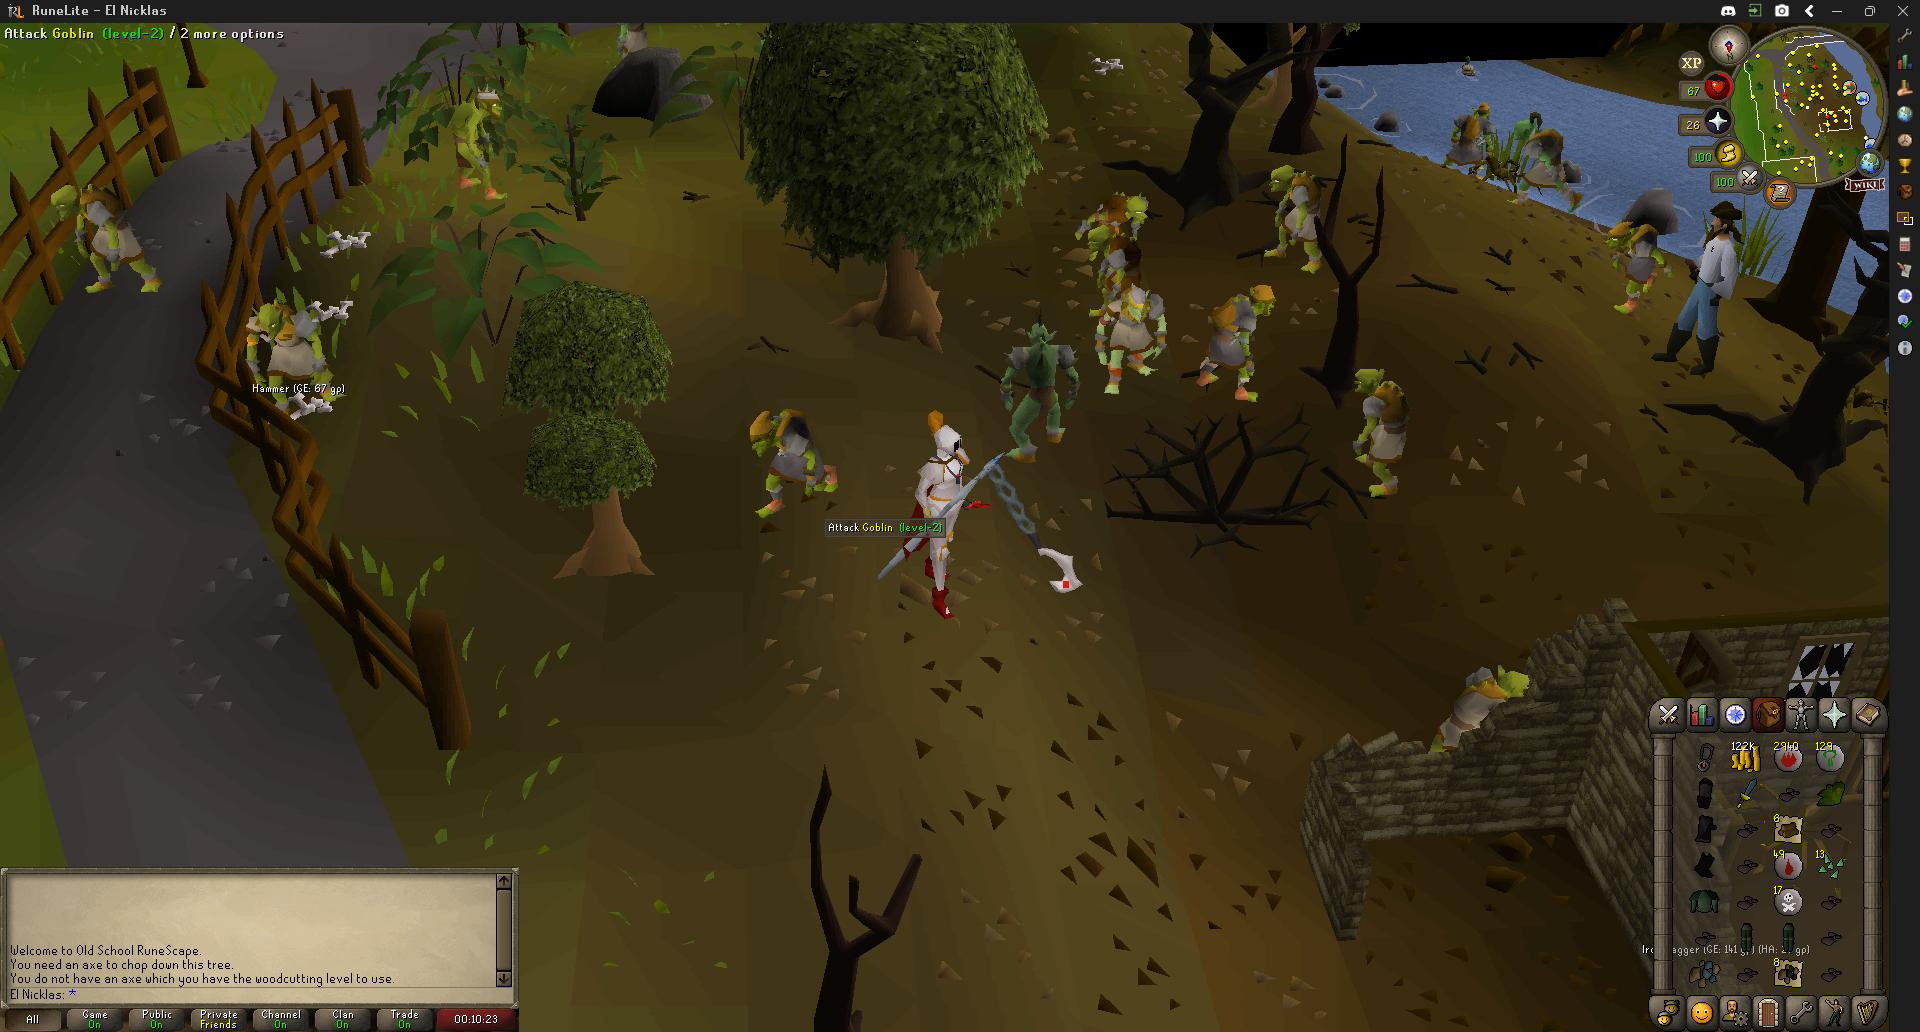Player: (895, 413, 984, 624)
goblin: (1652, 198, 1740, 376), (247, 293, 344, 418), (64, 182, 161, 295), (1193, 284, 1278, 401), (753, 406, 838, 520), (1000, 321, 1072, 451), (1093, 269, 1166, 393), (1437, 666, 1531, 755), (1357, 370, 1413, 498), (1076, 186, 1142, 291), (451, 84, 507, 203), (1265, 164, 1327, 270), (1599, 214, 1663, 314), (1518, 121, 1584, 213), (1444, 101, 1494, 179), (616, 23, 649, 57)
